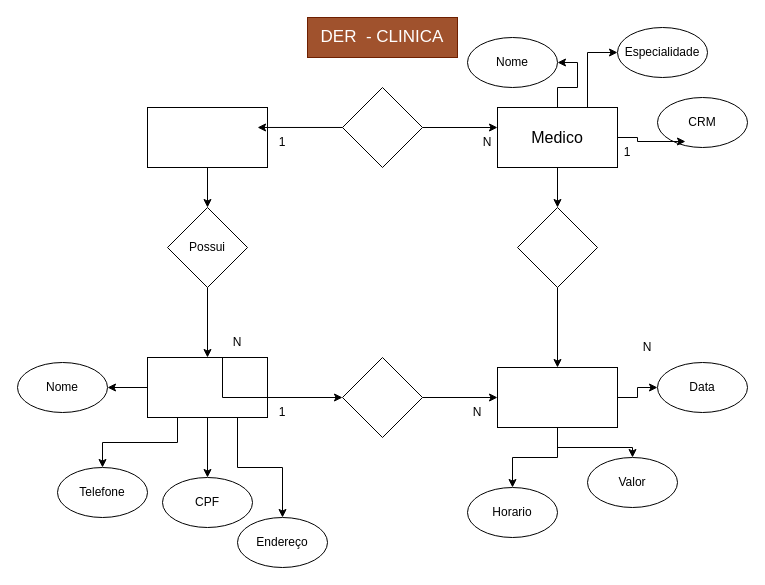
Some shapes in this 765 by 585 pixel diagram are drawn without their labels. Here are the shapes that lost their labels. From the top down, the box of each, then its label:
(146, 106, 268, 168): Clinica
(342, 86, 422, 168): Contem
(516, 206, 598, 288): realizam
(146, 356, 268, 418): Pacientes
(342, 356, 422, 438): faz
(496, 366, 618, 428): Consultas
